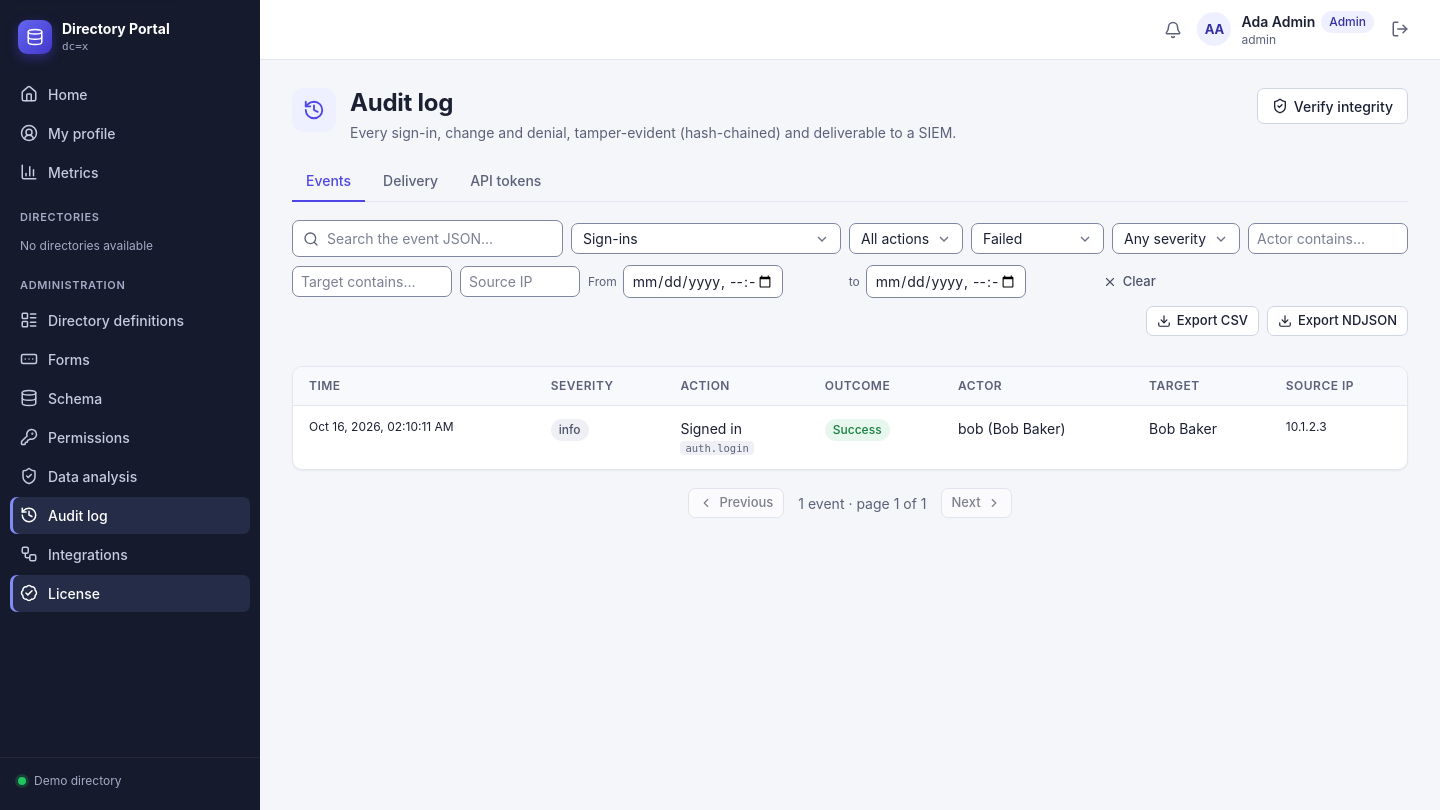
Scenario: audit log page › exports the current filter as CSV
Expected: the text "Signed in" is shown, [680, 420, 742, 437]
Click the button "Export CSV". click: (1202, 321)
box: [1146, 306, 1259, 336]
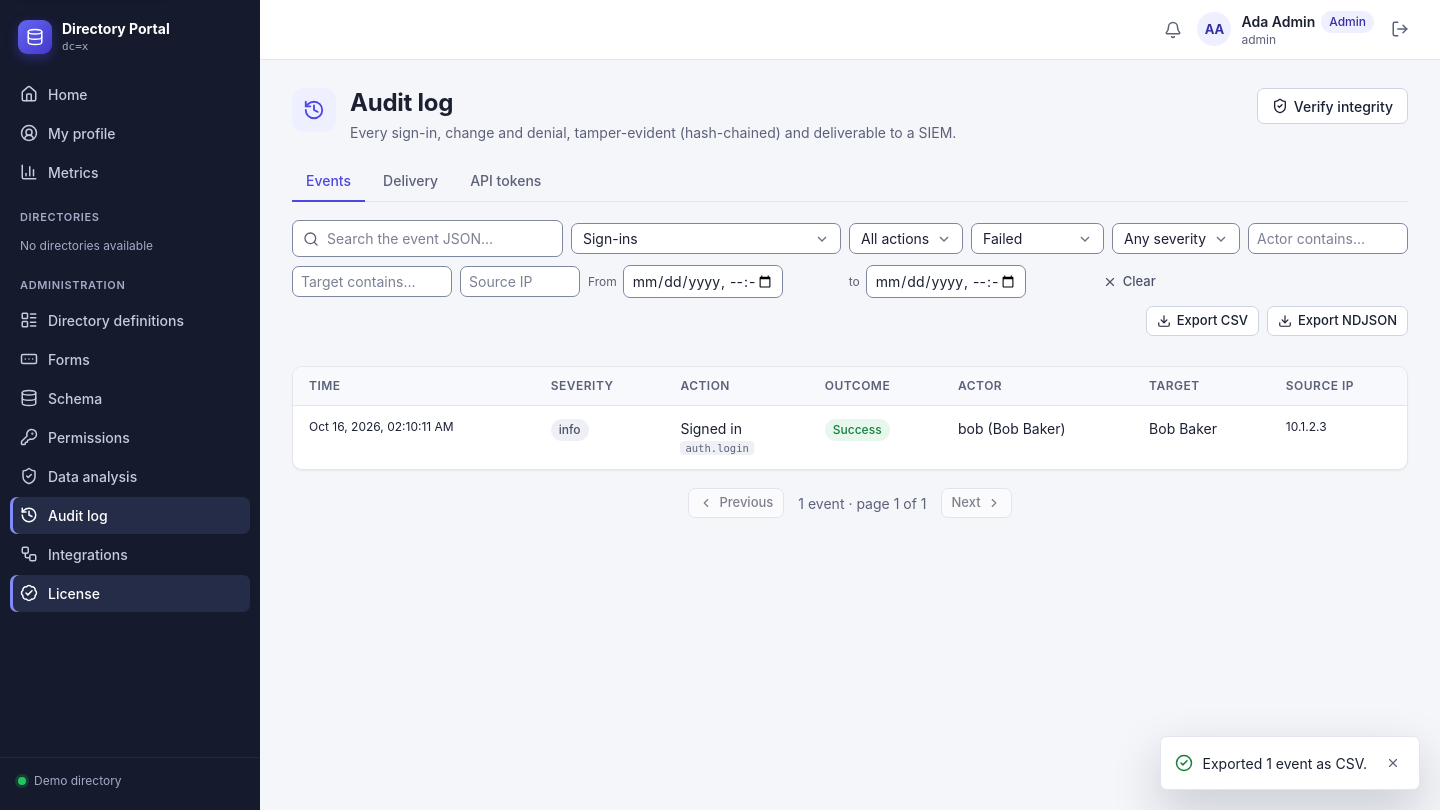
Expected: the text "Exported 1 event as CSV." is shown, [1202, 752, 1367, 774]
